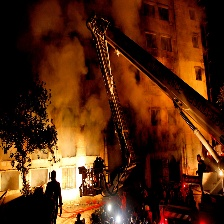smoke: (20, 1, 141, 132)
